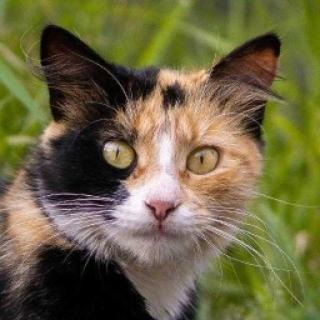cat: (32, 20, 282, 253)
nose: (141, 187, 183, 228)
